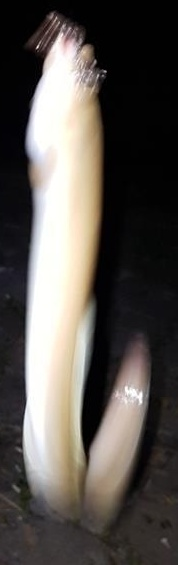Anguilla anguilla: (20, 20, 158, 545)
